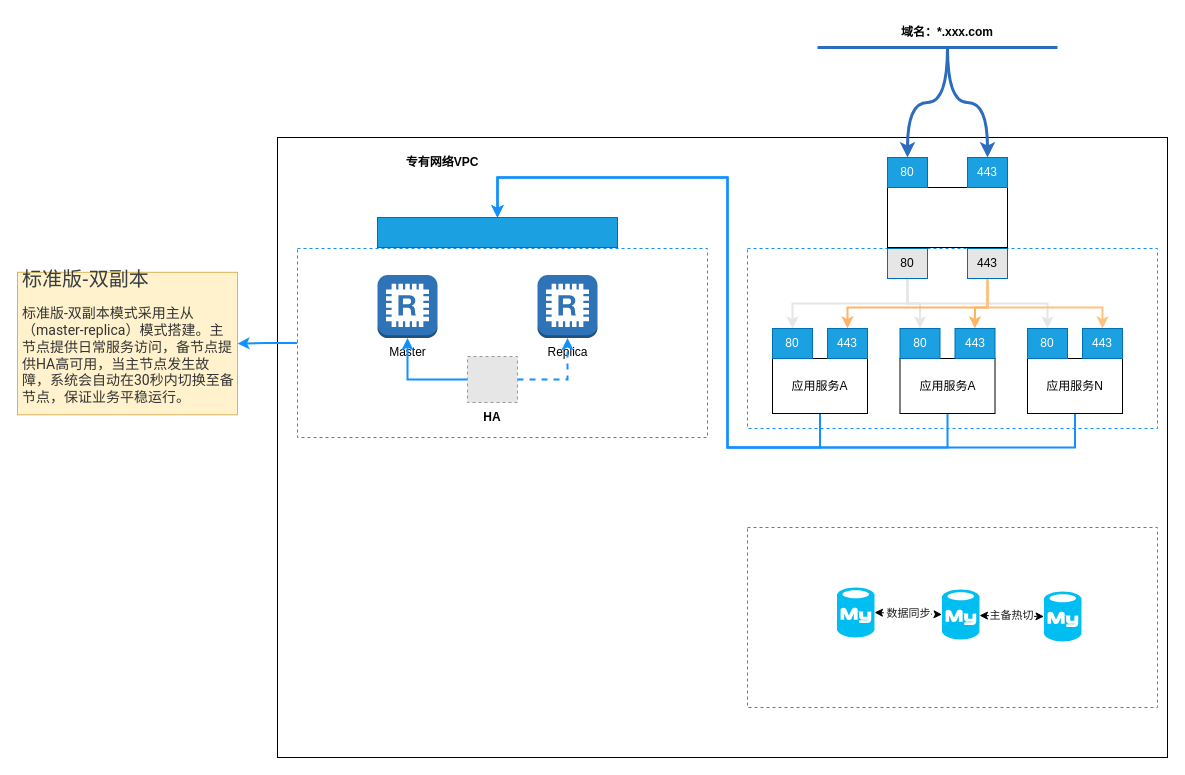
Image size: 1185x775. Some labels were removed from this diagram. Grey dashed boxes stand in for pictures. Here are the shapes that lost their labels. From the top down, the centre of each, then its label:
the point at 497,232: xxx.redis.rds.aliyuncs.com:6379
the point at 947,217: 负载均衡 公网IP：X.X.X.X
